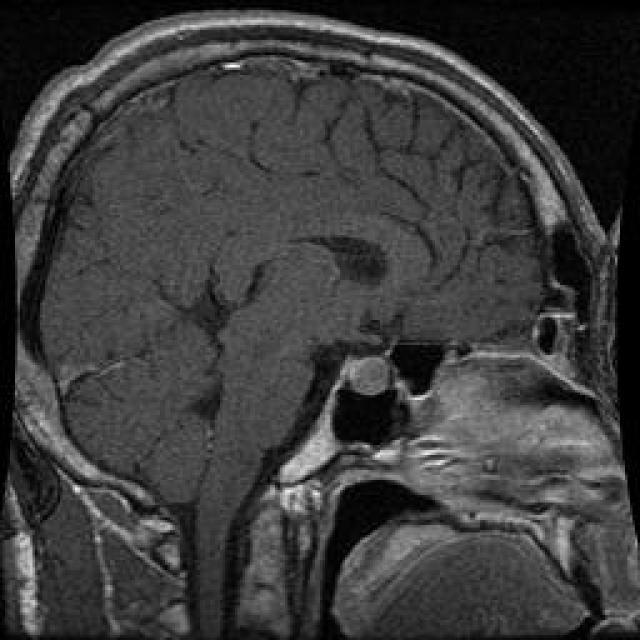pituitary: (336, 351, 405, 406)
